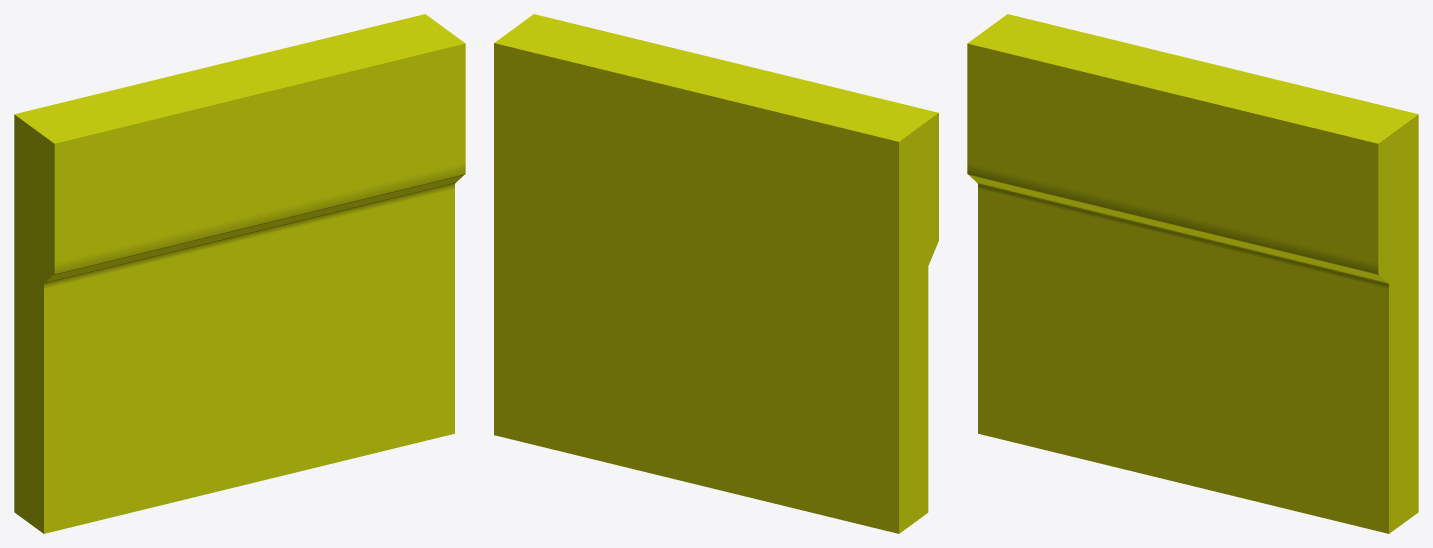
File: Wall.obj
3 renders of one model, left to right at view 1: azimuth 30°, elevation 25°; view 2: azimuth 150°, elevation 25°; view 3: azimuth 330°, elevation 25°, orthographic.
Parts seen in each view (by area): view 1: default; view 2: default; view 3: default.
Part boxes in pixels (left/top/right/bottom): default: left=14, top=14, right=465, bottom=533; default: left=494, top=14, right=938, bottom=533; default: left=967, top=14, right=1418, bottom=533.
Size of the model in its own units: 57.6 by 53.3 by 9.79.
